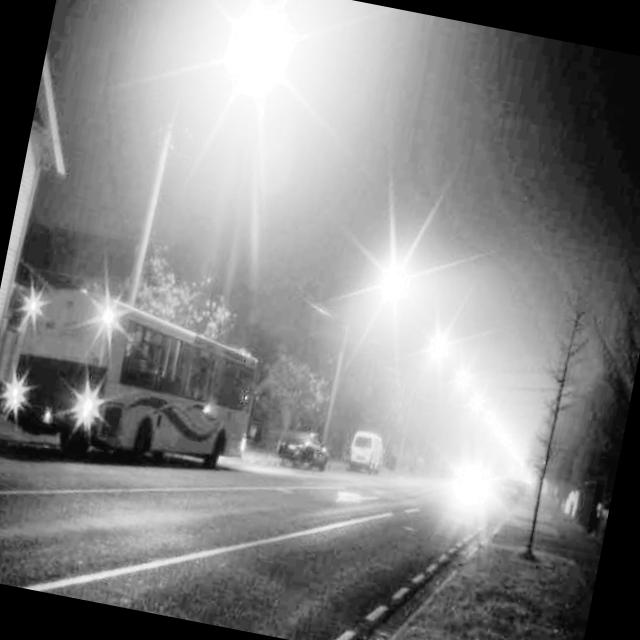Bus: (2, 259, 274, 489)
Car: (266, 416, 344, 488), (328, 409, 398, 486)
